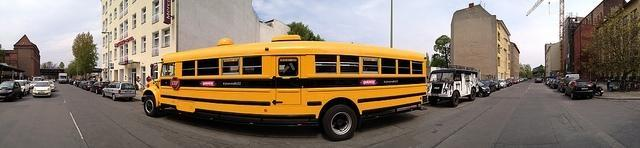bus: (142, 37, 428, 140)
car: (101, 81, 136, 101), (564, 80, 594, 100), (0, 82, 21, 101), (32, 82, 52, 96), (14, 80, 30, 97), (477, 82, 492, 98), (88, 81, 105, 94), (489, 80, 502, 90), (84, 81, 95, 90), (498, 79, 508, 88), (535, 78, 543, 82), (508, 79, 514, 84)
motorcycle: (590, 78, 604, 96), (605, 79, 614, 92)
truck: (426, 64, 479, 106), (58, 74, 68, 84)
